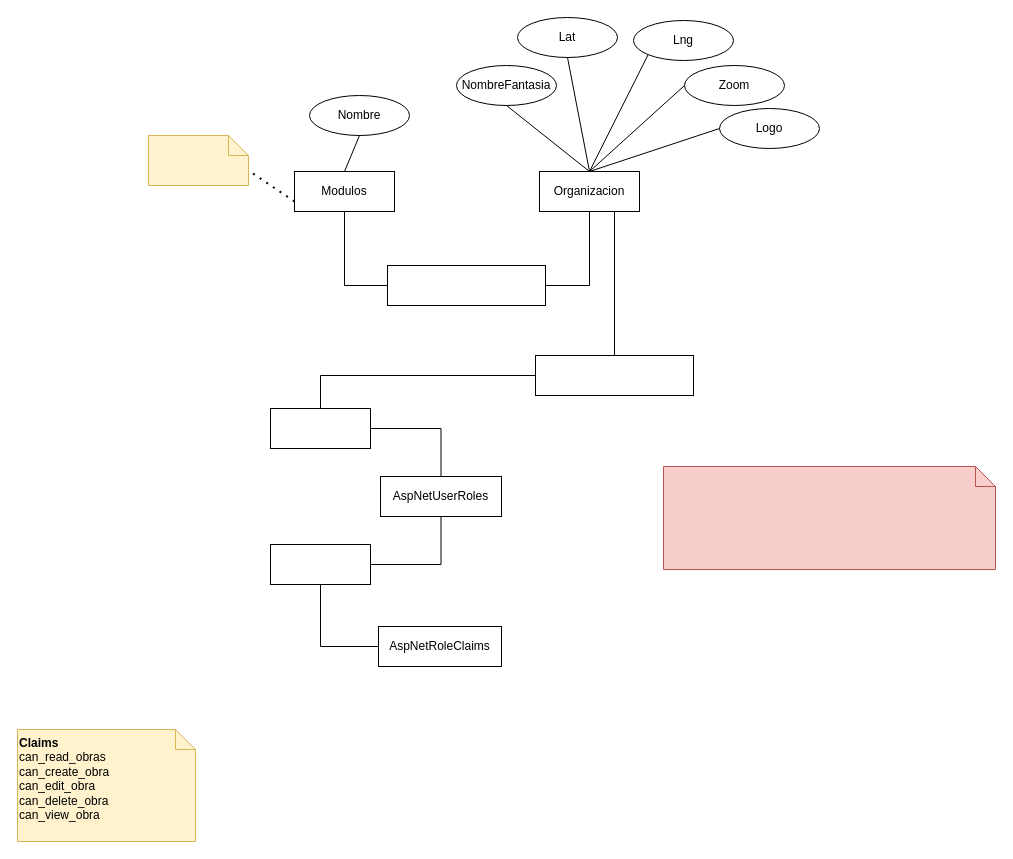
The diagram is 1013 pixels wide and 859 high, and some of its shapes have lost their labels. Here are the shapes that lost their labels. From the top down, the centre of each, then its label:
At point (198, 160): "- Obras - KeyMeeting".
At point (466, 285): "OrganizacionModulos".
At point (614, 375): "AspNetUsersOrganizacion".
At point (320, 428): "AspNetUsers".
At point (829, 518): "Los roles deberian estar asociados a las organizaciones".
At point (320, 564): "AspNetRoles".
